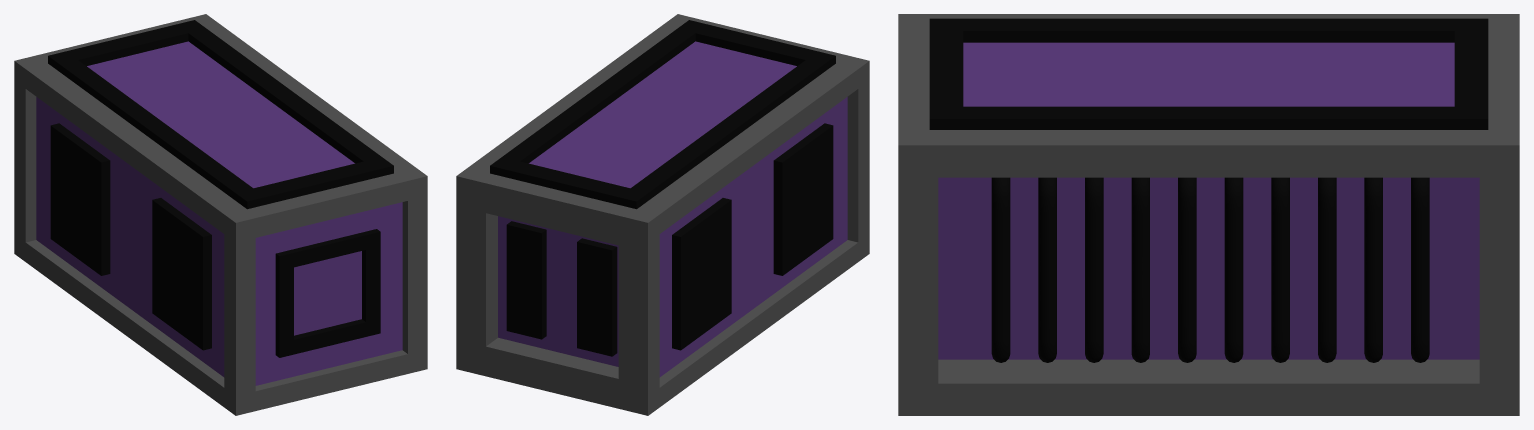
Rendered from hullReinforcementModule.glb.
3 renders of one model, left to right at view 1: azimuth 30°, elevation 25°; view 2: azimuth 150°, elevation 25°; view 3: azimuth 270°, elevation 25°, orthographic. The views are drawn at different scales.
Parts seen in each view (by area): view 1: HullReinforcement; view 2: HullReinforcement; view 3: HullReinforcement.
Part boxes in pixels (box(x1,y1,x2,y2)): HullReinforcement: box(14, 14, 427, 415); HullReinforcement: box(456, 14, 869, 415); HullReinforcement: box(898, 14, 1519, 415).
Size of the model in its own units: 1 by 1 by 2.
